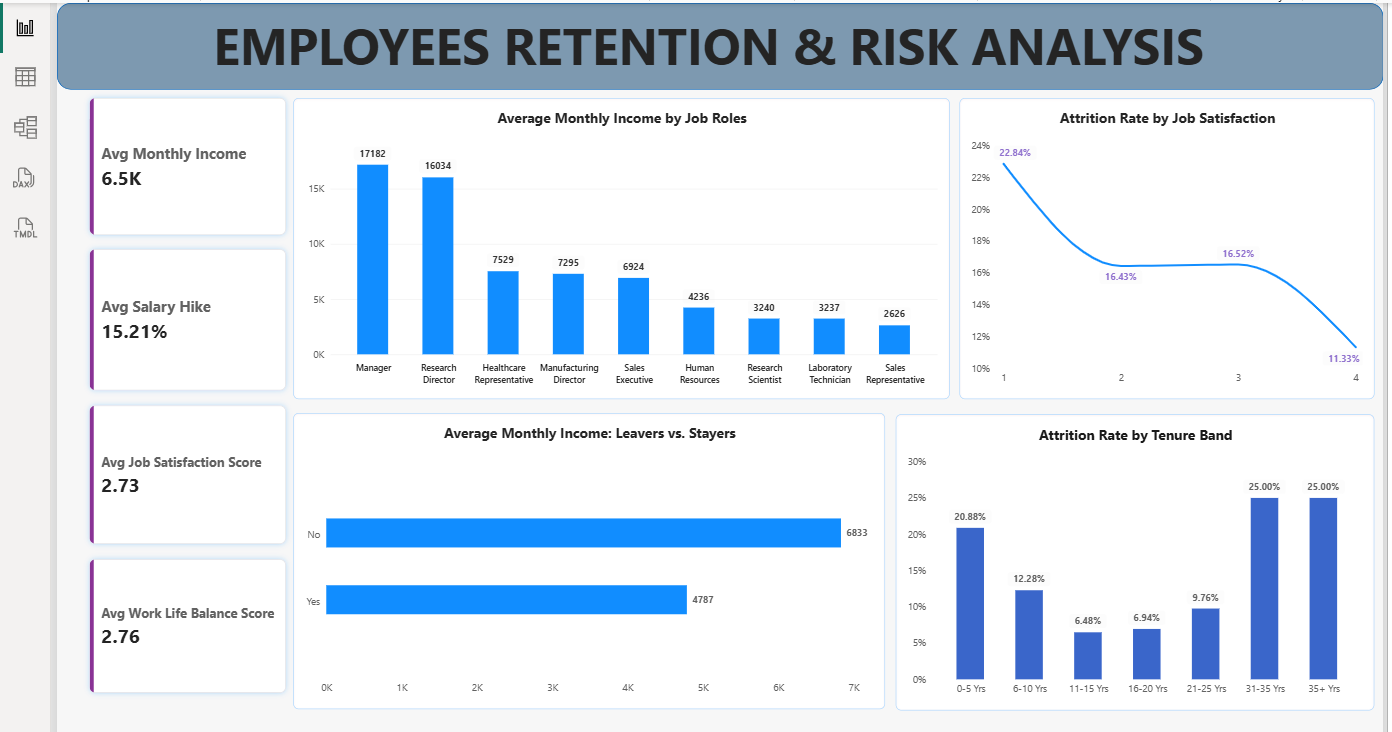

What the dashboard file says about the page in this screenshot:
{"tool":"powerbi","page":{"name":"Page 2","canvas":[1920,1080],"ordinal":1},"visuals":[{"type":"shape","box":[0,0,1920.4,125.4],"z":0},{"type":"cardVisual","fields":{"Data":["IBM HR Analytics Employee Attrition.Avg Monthly Income"]},"box":[36.5,125.8,306.4,220.7],"z":1000},{"type":"cardVisual","fields":{"Data":["IBM HR Analytics Employee Attrition.Avg Job Satisfaction Score"]},"box":[36.5,572.6,306.4,222.5],"z":2000},{"type":"cardVisual","fields":{"Data":["IBM HR Analytics Employee Attrition.Avg Salary Hike"]},"box":[36.5,346.5,306.4,226.1],"z":3000},{"type":"cardVisual","fields":{"Data":["IBM HR Analytics Employee Attrition.Avg Work Life Balance Score"]},"box":[36.5,795.1,306.4,215.2],"z":4000},{"type":"columnChart","title":"Average Monthly Income by Job Roles","fields":{"Category":["IBM HR Analytics Employee Attrition.JobRole"],"Y":["IBM HR Analytics Employee Attrition.Avg Monthly Income"]},"box":[342.9,136.8,950.2,435.9],"z":6000},{"type":"clusteredBarChart","title":"Average Monthly Income: Leavers vs. Stayers","fields":{"Category":["IBM HR Analytics Employee Attrition.Attrition"],"Y":["IBM HR Analytics Employee Attrition.Avg Monthly Income"]},"box":[342.9,592.7,857.1,428.6],"z":7000},{"type":"clusteredColumnChart","title":"Attrition Rate by Tenure Band","fields":{"Category":["IBM HR Analytics Employee Attrition.Tenure Band"],"Y":["IBM HR Analytics Employee Attrition.Attrition Rate"]},"box":[1214.6,594.5,693,428.6],"z":8000},{"type":"lineChart","title":"Attrition Rate by Job Satisfaction","fields":{"Category":["IBM HR Analytics Employee Attrition.JobSatisfaction"],"Y":["IBM HR Analytics Employee Attrition.Attrition Rate"]},"box":[1306.6,137.5,600.8,436.1],"z":9000},{"type":"textbox","box":[226.1,12.8,1508.2,113.1],"z":9001}]}

Visuals, with their boxes on the page's 1920x1080 design canvas (x1, y1, x2, y2). These are canvas units, not pixel positions in the 1392x732 screenshot, which may show the page scaled, cropped or inside an application window:
shape: (left=0, top=0, right=1920, bottom=125)
cardVisual - IBM HR Analytics Employee Attrition.Avg Monthly Income: (left=36, top=126, right=343, bottom=346)
cardVisual - IBM HR Analytics Employee Attrition.Avg Job Satisfaction Score: (left=36, top=573, right=343, bottom=795)
cardVisual - IBM HR Analytics Employee Attrition.Avg Salary Hike: (left=36, top=346, right=343, bottom=573)
cardVisual - IBM HR Analytics Employee Attrition.Avg Work Life Balance Score: (left=36, top=795, right=343, bottom=1010)
"Average Monthly Income by Job Roles" columnChart: (left=343, top=137, right=1293, bottom=573)
"Average Monthly Income: Leavers vs. Stayers" clusteredBarChart: (left=343, top=593, right=1200, bottom=1021)
"Attrition Rate by Tenure Band" clusteredColumnChart: (left=1215, top=594, right=1908, bottom=1023)
"Attrition Rate by Job Satisfaction" lineChart: (left=1307, top=138, right=1907, bottom=574)
textbox: (left=226, top=13, right=1734, bottom=126)
